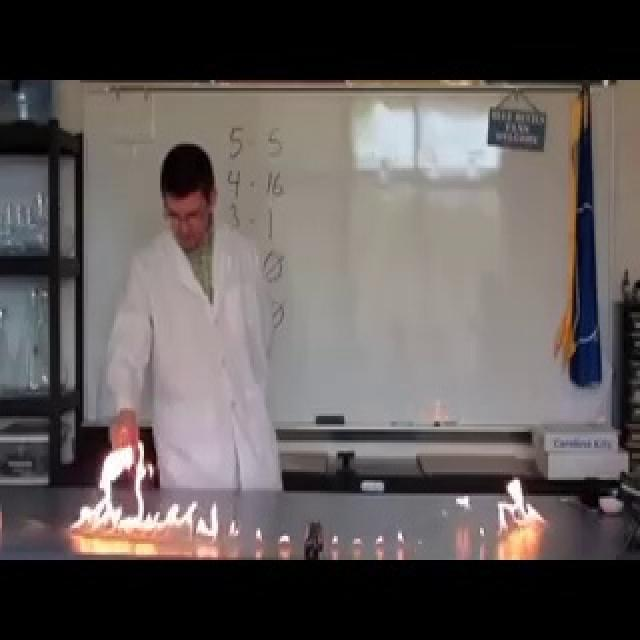fire: (61, 448, 217, 555), (491, 476, 549, 538)
